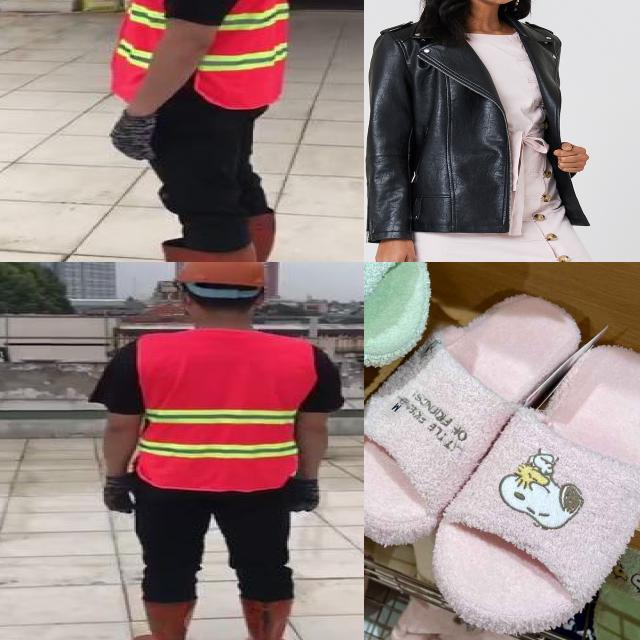Sandals: (364, 262, 640, 640)
boots: (103, 242, 258, 262), (237, 596, 299, 640), (134, 595, 194, 640)
hand_glove: (108, 109, 158, 163), (102, 474, 134, 515), (291, 480, 326, 514)
head_helmet: (168, 262, 275, 291)
person: (87, 262, 350, 640), (81, 0, 305, 262)
vest: (136, 328, 317, 489), (101, 0, 288, 110)
